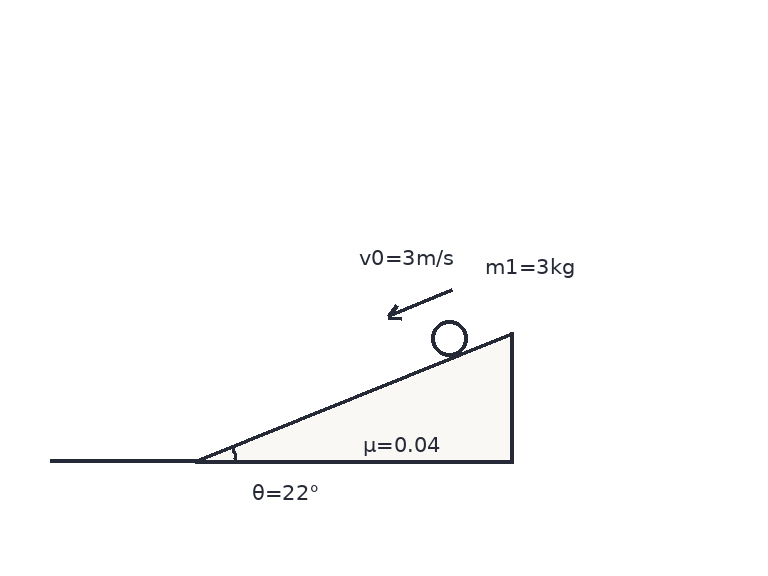ball: (429, 318, 469, 358)
ramp: (193, 330, 514, 462)
